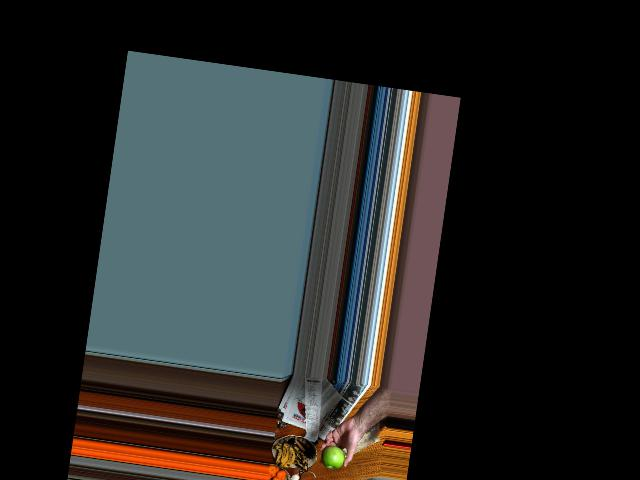apple: (321, 441, 350, 471)
